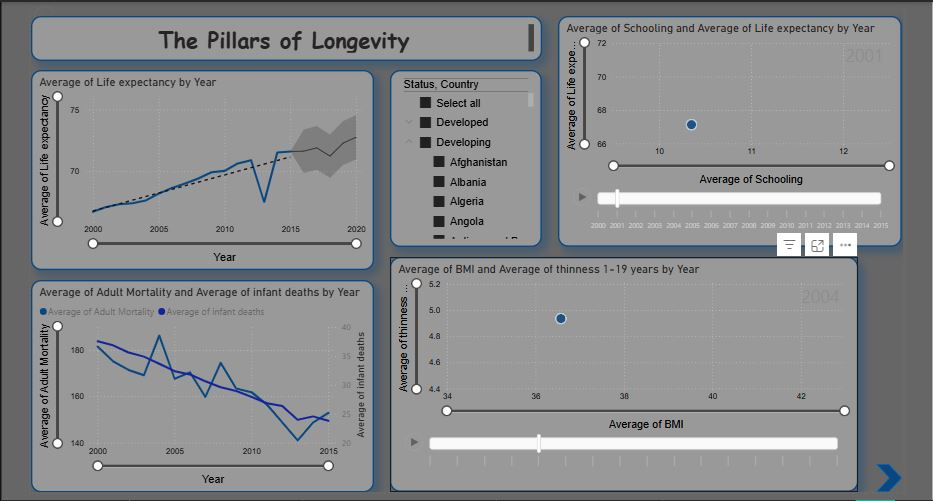

What the dashboard file says about the page in this screenshot:
{"tool":"powerbi","page":{"name":"Life Expectancy Drivers","canvas":[1280,720],"ordinal":2},"visuals":[{"type":"scatterChart","fields":{"Play":["Life Expectancy Data.Year.Variation.Date Hierarchy.Year"],"X":["Avg(Life Expectancy Data.Schooling)1"],"Y":["Avg(Life Expectancy Data.Life expectancy )"]},"box":[774.4,20.6,505.5,339.4],"z":0},{"type":"scatterChart","fields":{"Play":["Life Expectancy Data.Year.Variation.Date Hierarchy.Year"],"X":["Avg(Life Expectancy Data. BMI )"],"Y":["Avg(Life Expectancy Data. thinness  1-19 years)"]},"box":[527.5,374.7,687.7,345.3],"z":1000},{"type":"lineChart","fields":{"Category":["Life Expectancy Data.Year.Variation.Date Hierarchy.Year"],"Y":["Avg(Life Expectancy Data.Adult Mortality)"],"Y2":["Avg(Life Expectancy Data.infant deaths)"]},"box":[0,408.5,504,311.5],"z":2000},{"type":"actionButton","box":[0,0,100,40],"z":3000},{"type":"lineChart","fields":{"Category":["Life Expectancy Data.Year.Variation.Date Hierarchy.Year"],"Y":["Avg(Life Expectancy Data.Life expectancy )"]},"box":[0,99.9,504,293.9],"z":4000},{"type":"slicer","fields":{"Values":["Life Expectancy Data.Status Hierarchy.Status","Life Expectancy Data.Status Hierarchy.Country"]},"box":[527.5,99.9,223.3,260.1],"z":5000},{"type":"textbox","box":[0,20.6,750.9,66.1],"z":6000},{"type":"shape","box":[1241.6,678.9,38.2,41.1],"z":7000}]}

Visuals, with their boxes in screenshot pixels (x1, y1, x2, y2):
scatterChart - Life Expectancy Data.Year.Variation.Date Hierarchy.Year x Avg(Life Expectancy Data.Schooling)1: (left=558, top=12, right=904, bottom=244)
scatterChart - Life Expectancy Data.Year.Variation.Date Hierarchy.Year x Avg(Life Expectancy Data. BMI ): (left=388, top=254, right=860, bottom=491)
lineChart - Life Expectancy Data.Year.Variation.Date Hierarchy.Year x Avg(Life Expectancy Data.Adult Mortality): (left=27, top=278, right=372, bottom=491)
actionButton: (left=27, top=0, right=95, bottom=25)
lineChart - Life Expectancy Data.Year.Variation.Date Hierarchy.Year x Avg(Life Expectancy Data.Life expectancy ): (left=27, top=66, right=372, bottom=268)
slicer - Life Expectancy Data.Status Hierarchy.Status x Life Expectancy Data.Status Hierarchy.Country: (left=388, top=66, right=541, bottom=244)
textbox: (left=27, top=12, right=542, bottom=57)
shape: (left=878, top=463, right=904, bottom=491)
